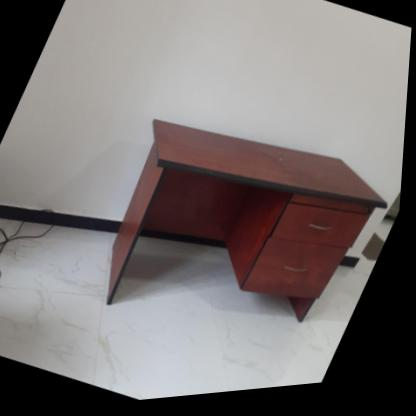Table: (64, 66, 411, 401)
